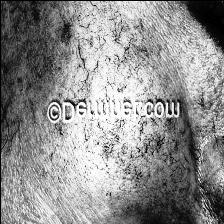Non-Cancerous Skin Condition: (66, 122, 194, 222), (44, 0, 174, 94), (204, 84, 224, 210)
